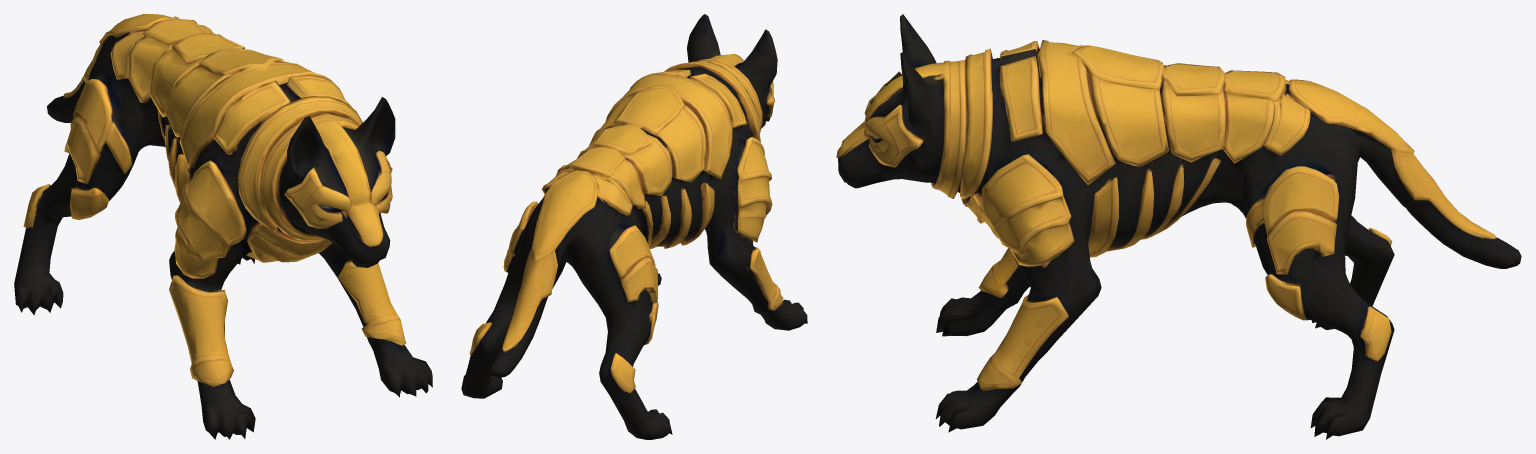
File: gpup.glb
3 views of the same model, side by side, from view 1: azimuth 30°, elevation 25°; view 2: azimuth 150°, elevation 25°; view 3: azimuth 270°, elevation 25° (orthographic). The views are drawn at different scales.
Visible parts, largest first — view 1: tripo_node_314cfab6-34c1-44b6-a3b4-9b02eb25dea6; view 2: tripo_node_314cfab6-34c1-44b6-a3b4-9b02eb25dea6; view 3: tripo_node_314cfab6-34c1-44b6-a3b4-9b02eb25dea6.
Part boxes in pixels (x1,y1,x2,y2): tripo_node_314cfab6-34c1-44b6-a3b4-9b02eb25dea6: [14, 14, 432, 439]; tripo_node_314cfab6-34c1-44b6-a3b4-9b02eb25dea6: [461, 14, 807, 439]; tripo_node_314cfab6-34c1-44b6-a3b4-9b02eb25dea6: [836, 14, 1521, 439].
Size of the model in its own units: 0.4456 by 0.554 by 1.
1 material, 1 textured.
